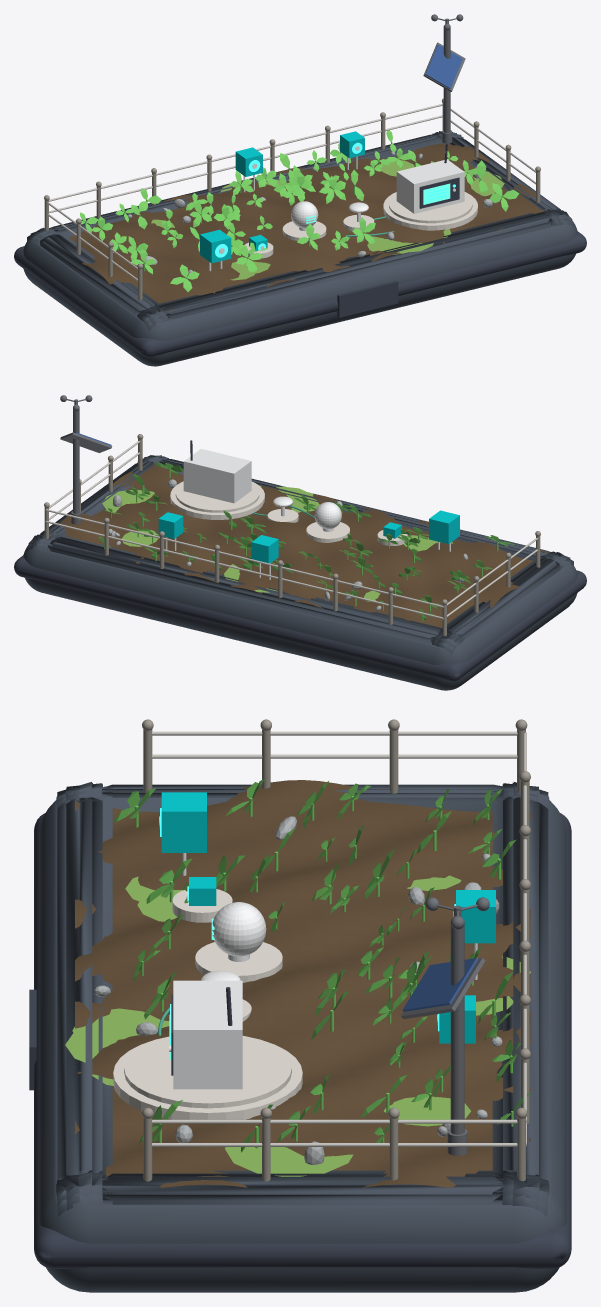
File: platform_diorama.glb
3 views of the same model, one above another, from view 1: azimuth 30°, elevation 25°; view 2: azimuth 150°, elevation 25°; view 3: azimuth 270°, elevation 25° (orthographic). The views are drawn at different scales.
Parts seen in each view (by area): view 1: Planter_Box, Soil_Bed, Planter_Accent_Band, Hub_Main_Body, Front_Logo_Plate, Hub_Pedestal_Upper, Cylinder.004, Hub_Pedestal_Lower, Solar_Cell_Surface, Cylinder.001, Sensor_FrontLeft_Body, Sensor_BackCenter_Body (+6 smaller); view 2: Planter_Box, Soil_Bed, Planter_Accent_Band, Hub_Main_Body, Hub_Pedestal_Upper, Cylinder.001, Cylinder.004, Hub_Pedestal_Lower, Sensor_FrontLeft_Body, Station_Mast, Sensor_BackCenter_Body, Dome_Pedestal (+5 smaller); view 3: Planter_Box, Soil_Bed, Planter_Accent_Band, Hub_Main_Body, Hub_Pedestal_Upper, Hub_Pedestal_Lower, Sensor_FrontLeft_Body, Station_Mast, Dome_Head, Moss_Patch_10, Dome_Pedestal, Solar_Cell_Surface (+14 smaller).
Boxes of the visible parts, x1,y1,x2,y2 form: Planter_Box: (23, 131, 577, 366); Soil_Bed: (66, 143, 544, 311); Planter_Accent_Band: (14, 231, 586, 357); Hub_Main_Body: (396, 159, 464, 213); Front_Logo_Plate: (337, 280, 398, 317); Hub_Pedestal_Upper: (389, 193, 472, 223); Cylinder.004: (49, 103, 442, 201); Hub_Pedestal_Lower: (383, 192, 477, 230); Solar_Cell_Surface: (425, 44, 462, 88); Cylinder.001: (49, 115, 442, 213); Sensor_FrontLeft_Body: (200, 229, 231, 263); Sensor_BackCenter_Body: (235, 147, 262, 176); Planter_Box: (23, 455, 577, 690); Soil_Bed: (59, 463, 548, 632); Planter_Accent_Band: (14, 555, 586, 681); Hub_Main_Body: (183, 449, 251, 503); Hub_Pedestal_Upper: (175, 482, 259, 512); Cylinder.001: (45, 521, 443, 619); Cylinder.004: (45, 509, 443, 607); Hub_Pedestal_Lower: (170, 481, 264, 519); Sensor_FrontLeft_Body: (429, 510, 459, 544); Station_Mast: (73, 409, 79, 513); Sensor_BackCenter_Body: (251, 535, 278, 563); Dome_Pedestal: (306, 522, 349, 542); Planter_Box: (39, 782, 566, 1292); Soil_Bed: (75, 780, 530, 1187); Planter_Accent_Band: (34, 813, 571, 1268); Hub_Main_Body: (173, 980, 242, 1089); Hub_Pedestal_Upper: (124, 1036, 291, 1108); Hub_Pedestal_Lower: (113, 1036, 302, 1119); Sensor_FrontLeft_Body: (161, 792, 206, 852); Station_Mast: (450, 920, 464, 1134); Dome_Head: (212, 902, 266, 956); Moss_Patch_10: (225, 1147, 353, 1176); Dome_Pedestal: (195, 942, 282, 982); Solar_Cell_Surface: (402, 958, 478, 1011).
Size of the model in its own units: 5.65 by 2.24 by 2.98.
